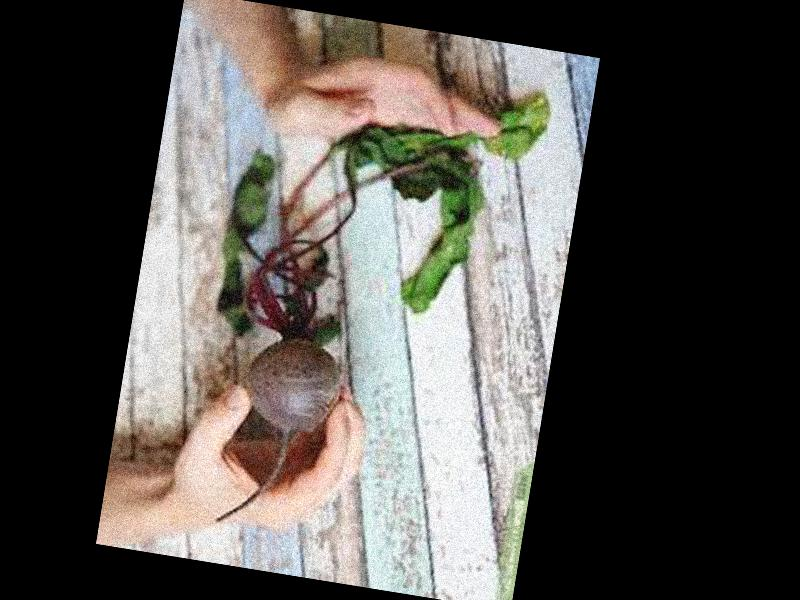Beet: (181, 49, 552, 564)
